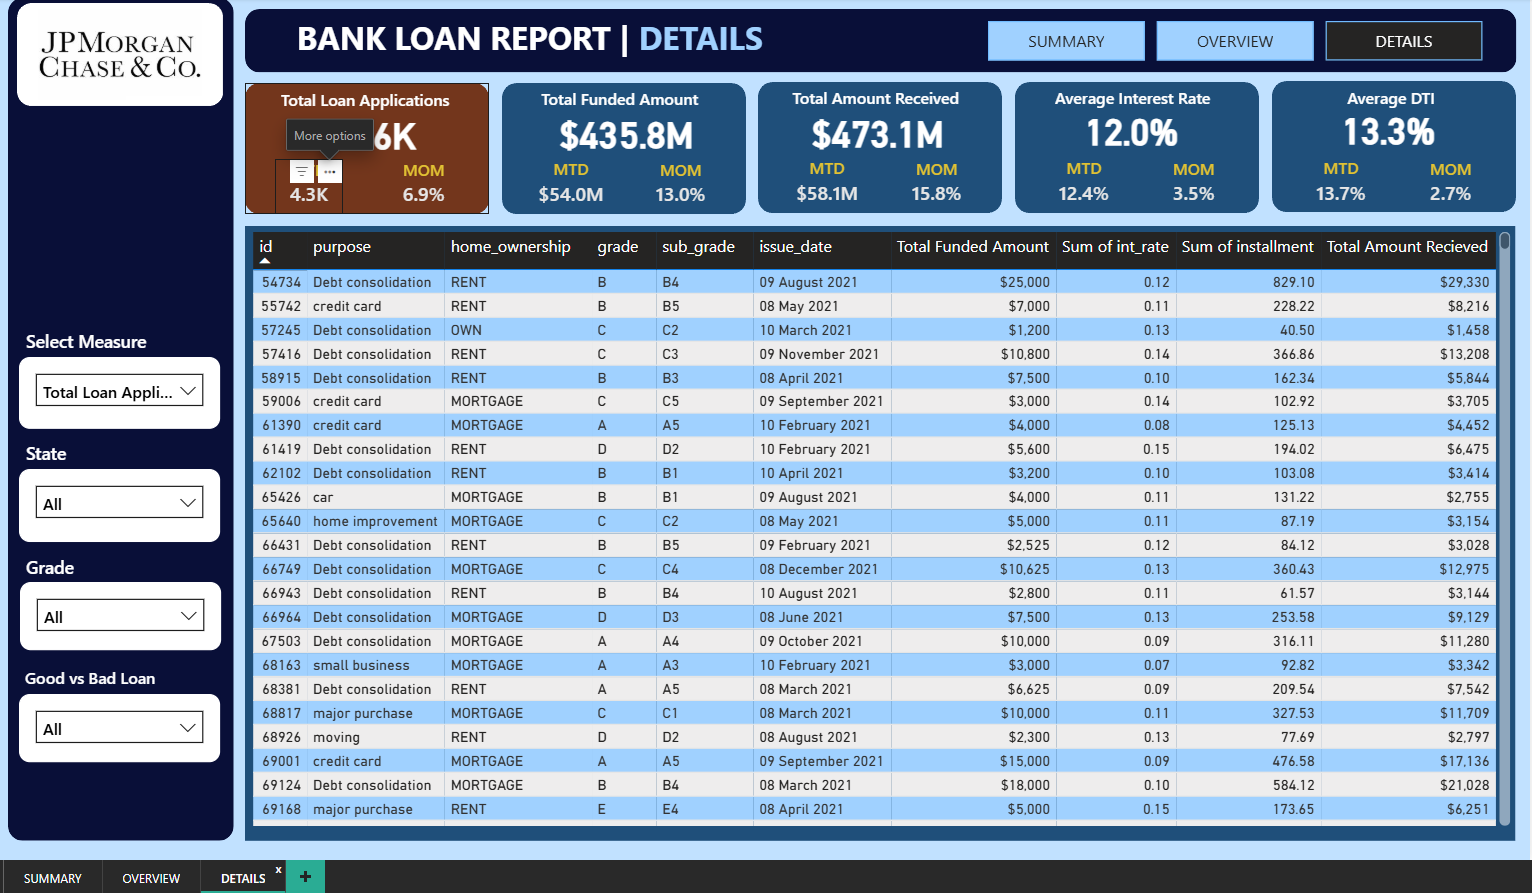

This screenshot's page, from the dashboard's own definition file:
{"tool":"powerbi","page":{"name":"DETAILS","canvas":[1280,720],"ordinal":2},"visuals":[{"type":"shape","box":[8.1,0,188.5,703.8],"z":0},{"type":"shape","box":[1063.8,69.2,203.8,109.5],"z":0,"group":"g5"},{"type":"shape","box":[635.2,69.6,203.8,109.5],"z":0,"group":"g3"},{"type":"shape","box":[849.5,69.8,203.8,109.5],"z":0,"group":"g4"},{"type":"shape","box":[420.8,70.5,203.8,109.5],"z":0,"group":"g2"},{"type":"shape","box":[206.5,70.9,203.8,109.5],"z":0,"group":"g1"},{"type":"textbox","box":[1119.6,69,87.1,34.1],"z":1000,"group":"g5"},{"type":"textbox","box":[658.6,69.1,150,34.1],"z":1000,"group":"g3"},{"type":"textbox","box":[877.7,69.1,150,34],"z":1000,"group":"g4"},{"type":"textbox","box":[444.2,70,150,34.1],"z":1000,"group":"g2"},{"type":"textbox","box":[231.6,70.9,154.4,28.7],"z":1000,"group":"g1"},{"type":"shape","box":[206.5,190.3,1061.1,513.5],"z":1000},{"type":"shape","box":[206.5,9,1062,53],"z":2000},{"type":"card","fields":{"Values":["Bank_Data.Avg DTI"]},"box":[1105.5,89.9,110.4,38.6],"z":2000,"group":"g5"},{"type":"card","fields":{"Values":["Bank_Data.Avg interest rate"]},"box":[891.2,90.4,110.4,38.6],"z":2000,"group":"g4"},{"type":"card","fields":{"Values":["Bank_Data.Total Amount Recieved"]},"box":[671.9,92.3,126.6,38.6],"z":2000,"group":"g3"},{"type":"card","fields":{"Values":["Bank_Data.Total Funded Amount"]},"box":[453.3,92.4,142.7,39.5],"z":2000,"group":"g2"},{"type":"card","fields":{"Values":["Bank_Data.Total Loan Applications"]},"box":[259.9,92.5,104.1,42.2],"z":2000,"group":"g1"},{"type":"textbox","box":[242.4,9,404,52.1],"z":3000},{"type":"card","title":"MTD","fields":{"Values":["Bank_Data.MTD DTI"]},"box":[1089,132.4,65.4,46.2],"z":3000,"group":"g5"},{"type":"card","title":"MTD","fields":{"Values":["Bank_Data.MTD Total Amount Recieved"]},"box":[660.4,132.7,65.4,46.2],"z":3000,"group":"g3"},{"type":"card","title":"MTD","fields":{"Values":["Bank_Data.MTD avg interest"]},"box":[874.7,133,65.4,46.2],"z":3000,"group":"g4"},{"type":"card","title":"MTD","fields":{"Values":["Bank_Data.MTD Total Funded Amount"]},"box":[446,133.6,65.4,46.2],"z":3000,"group":"g2"},{"type":"card","title":"MTD","fields":{"Values":["Bank_Data.MTD Loan Application"]},"box":[231.6,134.6,56.6,45.8],"z":3000,"group":"g1"},{"type":"shape","box":[16.2,4.5,172.4,86.2],"z":4000},{"type":"card","title":"MOM","fields":{"Values":["Bank_Data.MOM DTI"]},"box":[1185,133,56.6,45.8],"z":4000,"group":"g5"},{"type":"card","title":"MOM","fields":{"Values":["Bank_Data.MOM Recieved Amount amount"]},"box":[756.4,133.3,56.6,45.8],"z":4000,"group":"g3"},{"type":"card","title":"MOM","fields":{"Values":["Bank_Data.MOM interest rate"]},"box":[970.7,133.5,56.6,45.8],"z":4000,"group":"g4"},{"type":"card","title":"MOM","fields":{"Values":["Bank_Data.MOM funded amount"]},"box":[542,134.2,56.6,45.8],"z":4000,"group":"g2"},{"type":"card","title":"MOM","fields":{"Values":["Bank_Data.MOM Loan Application"]},"box":[327.7,134.6,56.6,45.8],"z":4000,"group":"g1"},{"type":"group","id":"g1","title":"Group 1","box":[206.5,70.9,203.8,109.5],"z":5000},{"type":"group","id":"g2","title":"Group 1","box":[420.8,70,203.8,110],"z":6000},{"type":"group","id":"g3","title":"Group 1","box":[635.2,69.1,203.8,110],"z":7000},{"type":"group","id":"g4","title":"Group 1","box":[849.5,69.1,203.8,110.4],"z":8000},{"type":"group","id":"g5","title":"Group 1","box":[1063.8,69,203.8,109.8],"z":9000},{"type":"textbox","box":[18.2,365.3,55.9,31.8],"z":10000},{"type":"slicer","fields":{"Values":["Bank_Data.address_state"]},"box":[18,393.2,167.9,61],"z":11000},{"type":"slicer","fields":{"Values":["Bank_Data.grade"]},"box":[18.2,487.6,167.6,57.1],"z":12000},{"type":"textbox","box":[18.2,460.6,72.9,31.8],"z":13000},{"type":"slicer","fields":{"Values":["Bank_Data.Good vs Bad Loans"]},"box":[17.6,581.2,167.6,57.1],"z":14000},{"type":"textbox","box":[18,553.9,139.2,32.3],"z":15000},{"type":"slicer","fields":{"Values":["Select Measure.Select Measure"]},"box":[18,299.9,167.9,60.1],"z":16000},{"type":"textbox","box":[18.1,271.9,124.4,40],"z":17000},{"type":"tableEx","fields":{"Values":["Bank_Data.id","Bank_Data.purpose","Bank_Data.home_ownership","Bank_Data.grade","Bank_Data.sub_grade","Bank_Data.issue_date","Bank_Data.Total Funded Amount","Sum(Bank_Data.int_rate)","Sum(Bank_Data.installment)","Bank_Data.Total Amount Recieved"]},"box":[207.4,190.3,1061.1,506.3],"z":18000},{"type":"image","box":[26,9,151.7,76.3],"z":29001},{"type":"pageNavigator","box":[826.8,18.9,414.8,33.2],"z":29002}]}

Visuals, with their boxes on the page's 1280x720 design canvas (x1, y1, x2, y2). These are canvas units, not pixel positions in the 1532x893 screenshot, which may show the page scaled, cropped or inside an application window:
shape: box=[8, 0, 197, 704]
shape: box=[1064, 69, 1268, 179]
shape: box=[635, 70, 839, 179]
shape: box=[850, 70, 1053, 179]
shape: box=[421, 70, 625, 180]
shape: box=[206, 71, 410, 180]
textbox: box=[1120, 69, 1207, 103]
textbox: box=[659, 69, 809, 103]
textbox: box=[878, 69, 1028, 103]
textbox: box=[444, 70, 594, 104]
textbox: box=[232, 71, 386, 100]
shape: box=[206, 190, 1268, 704]
shape: box=[206, 9, 1268, 62]
card - Bank_Data.Avg DTI: box=[1106, 90, 1216, 128]
card - Bank_Data.Avg interest rate: box=[891, 90, 1002, 129]
card - Bank_Data.Total Amount Recieved: box=[672, 92, 798, 131]
card - Bank_Data.Total Funded Amount: box=[453, 92, 596, 132]
card - Bank_Data.Total Loan Applications: box=[260, 92, 364, 135]
textbox: box=[242, 9, 646, 61]
"MTD" card: box=[1089, 132, 1154, 179]
"MTD" card: box=[660, 133, 726, 179]
"MTD" card: box=[875, 133, 940, 179]
"MTD" card: box=[446, 134, 511, 180]
"MTD" card: box=[232, 135, 288, 180]
shape: box=[16, 4, 189, 91]
"MOM" card: box=[1185, 133, 1242, 179]
"MOM" card: box=[756, 133, 813, 179]
"MOM" card: box=[971, 134, 1027, 179]
"MOM" card: box=[542, 134, 599, 180]
"MOM" card: box=[328, 135, 384, 180]
"Group 1" group: box=[206, 71, 410, 180]
"Group 1" group: box=[421, 70, 625, 180]
"Group 1" group: box=[635, 69, 839, 179]
"Group 1" group: box=[850, 69, 1053, 180]
"Group 1" group: box=[1064, 69, 1268, 179]
textbox: box=[18, 365, 74, 397]
slicer - Bank_Data.address_state: box=[18, 393, 186, 454]
slicer - Bank_Data.grade: box=[18, 488, 186, 545]
textbox: box=[18, 461, 91, 492]
slicer - Bank_Data.Good vs Bad Loans: box=[18, 581, 185, 638]
textbox: box=[18, 554, 157, 586]
slicer - Select Measure.Select Measure: box=[18, 300, 186, 360]
textbox: box=[18, 272, 142, 312]
tableEx - Bank_Data.id x Bank_Data.purpose: box=[207, 190, 1268, 697]
image: box=[26, 9, 178, 85]
pageNavigator: box=[827, 19, 1242, 52]
